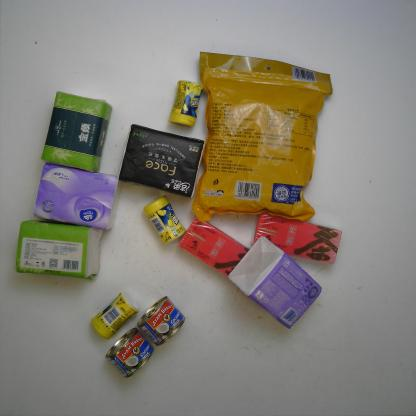Canned Food: (136, 296, 187, 346), (104, 328, 155, 378)
Dried Food: (191, 52, 333, 224)
Gum: (90, 292, 140, 338), (142, 194, 184, 245), (167, 79, 203, 128)
Instant Drink: (251, 212, 342, 265), (178, 217, 250, 278)
Tissue: (227, 235, 321, 330), (117, 123, 205, 198), (38, 90, 113, 174), (33, 164, 122, 232), (15, 219, 104, 281)
